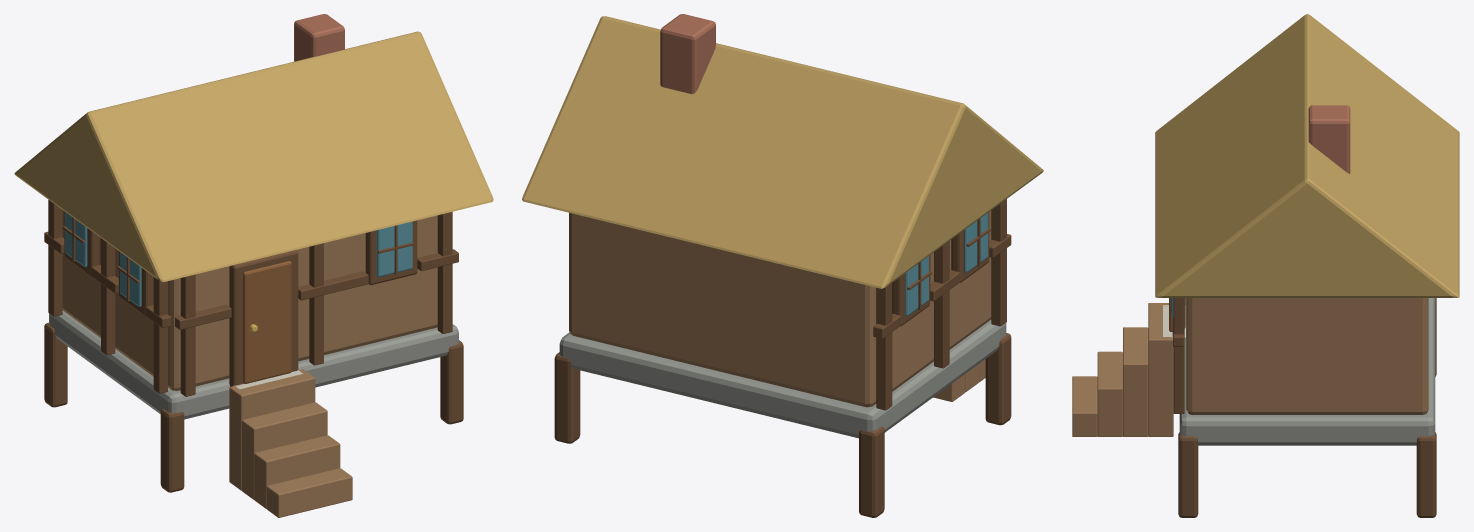
File: wetland-cottage-0.glb
3 views of the same model, side by side, from view 1: azimuth 30°, elevation 25°; view 2: azimuth 150°, elevation 25°; view 3: azimuth 270°, elevation 25° (orthographic). The views are drawn at different scales.
Parts seen in each view (by area): view 1: Golden thatch, Aged oak, Dark beams, Foundation stone, Door oak, Blue glass, Chimney brick; view 2: Golden thatch, Aged oak, Dark beams, Foundation stone, Chimney brick, Blue glass; view 3: Golden thatch, Aged oak, Foundation stone, Dark beams, Chimney brick.
Part boxes in pixels (<box>): Golden thatch: <box>14,31,493,282</box>; Aged oak: <box>62,210,437,517</box>; Dark beams: <box>44,200,463,492</box>; Foundation stone: <box>49,310,458,419</box>; Door oak: <box>243,261,291,383</box>; Blue glass: <box>65,212,412,306</box>; Chimney brick: <box>294,14,344,61</box>; Golden thatch: <box>522,16,1043,288</box>; Aged oak: <box>569,210,991,407</box>; Dark beams: <box>554,199,1011,517</box>; Foundation stone: <box>559,320,1006,438</box>; Chimney brick: <box>660,14,715,94</box>; Blue glass: <box>905,213,988,315</box>; Golden thatch: <box>1155,14,1459,297</box>; Aged oak: <box>1072,298,1428,436</box>; Foundation stone: <box>1179,298,1435,445</box>; Dark beams: <box>1169,298,1436,517</box>; Chimney brick: <box>1308,105,1350,173</box>.
Size of the model in its own units: 3.6 by 3.72 by 3.52.
